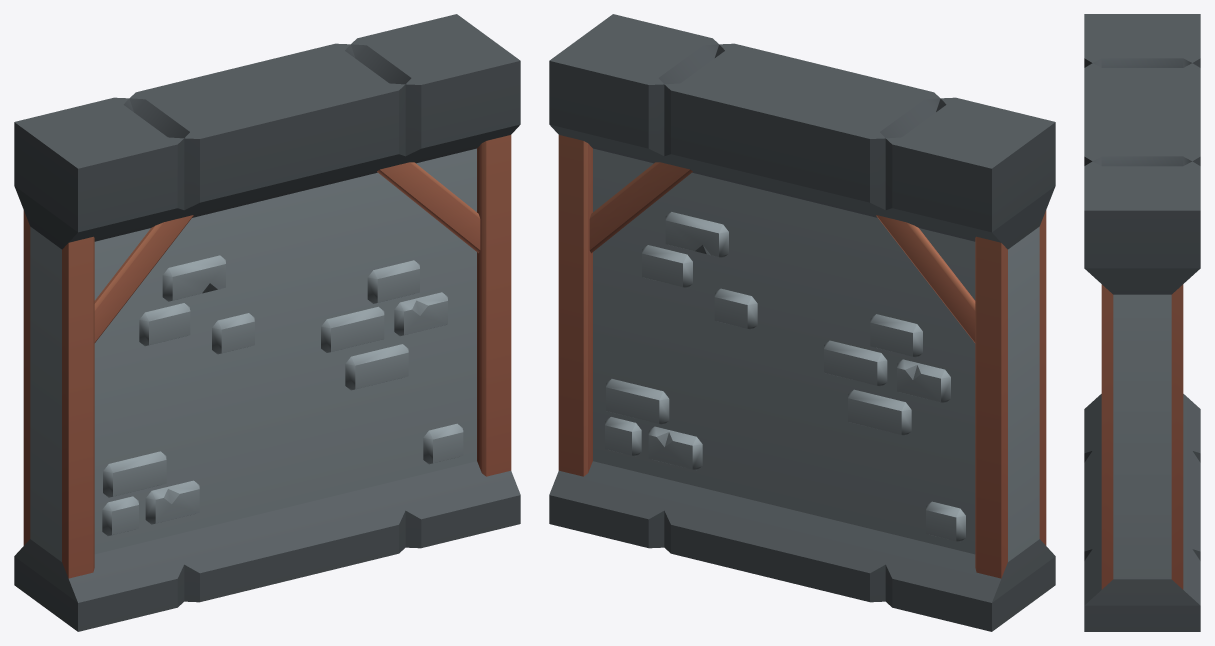
Rendered from wall_scaffold.glb.
3 renders of one model, left to right at view 1: azimuth 30°, elevation 25°; view 2: azimuth 150°, elevation 25°; view 3: azimuth 270°, elevation 25°, orthographic. The views are drawn at different scales.
Visible parts, largest first — view 1: wall_scaffold; view 2: wall_scaffold; view 3: wall_scaffold.
Part boxes in pixels (x1,y1,x2,y2): wall_scaffold: (14,14,520,631); wall_scaffold: (549,14,1055,631); wall_scaffold: (1084,14,1200,631).
Size of the model in its own units: 4 by 4 by 1.
Materials: 1 (1 with a texture image).
